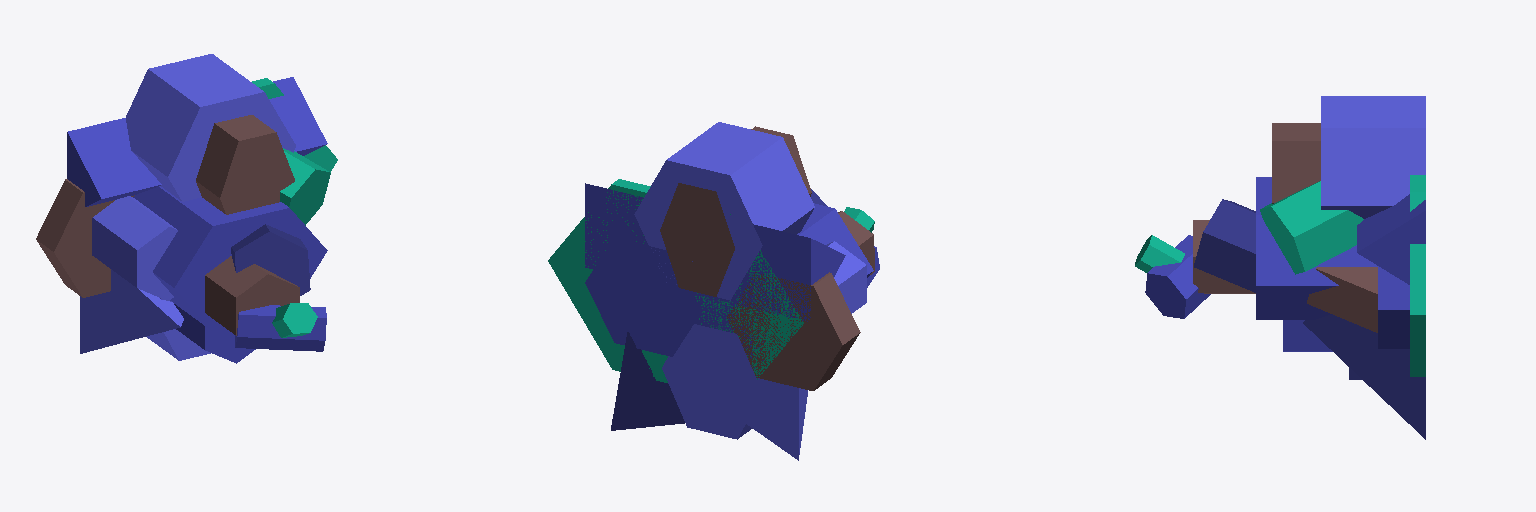
The model's file is casa-fosha.obj.
3 renders of one model, left to right at view 1: azimuth 30°, elevation 25°; view 2: azimuth 150°, elevation 25°; view 3: azimuth 270°, elevation 25°, orthographic.
Parts seen in each view (by area): view 1: Object.5, Object.4, Object.15, Object.6, Object.7, Object.2, Object.13, Object.9, Object.10, Object.17, Object.12, Object.8 (+3 smaller); view 2: Object.5, Object.3, Object.2, Object.15, Object.1, Object.16, Object.6, Object.13, Object.14, Object.4, Object.7, Object.9; view 3: Object.5, Object.14, Object.4, Object.12, Object.10, Object.15, Object.6, Object.11, Object.17, Object.16, Object.3, Object.9 (+2 smaller).
Part boxes in pixels (bbox=[...]): Object.5: bbox=[126, 54, 295, 201]; Object.4: bbox=[133, 186, 327, 331]; Object.15: bbox=[67, 77, 327, 206]; Object.6: bbox=[196, 115, 294, 214]; Object.7: bbox=[92, 196, 177, 300]; Object.2: bbox=[36, 179, 134, 297]; Object.13: bbox=[80, 269, 183, 353]; Object.9: bbox=[205, 256, 299, 335]; Object.10: bbox=[231, 224, 310, 295]; Object.17: bbox=[235, 305, 326, 351]; Object.12: bbox=[280, 148, 330, 225]; Object.8: bbox=[174, 304, 255, 363]; Object.5: bbox=[634, 122, 814, 300]; Object.3: bbox=[585, 238, 701, 356]; Object.2: bbox=[727, 272, 860, 390]; Object.15: bbox=[585, 183, 845, 321]; Object.1: bbox=[662, 324, 762, 439]; Object.16: bbox=[548, 179, 803, 382]; Object.6: bbox=[660, 126, 811, 296]; Object.13: bbox=[670, 363, 807, 460]; Object.14: bbox=[611, 332, 684, 430]; Object.4: bbox=[693, 203, 873, 368]; Object.7: bbox=[826, 241, 866, 313]; Object.9: bbox=[838, 211, 874, 274]; Object.5: bbox=[1321, 96, 1425, 218]; Object.14: bbox=[1303, 314, 1425, 439]; Object.4: bbox=[1256, 177, 1377, 319]; Object.12: bbox=[1260, 181, 1363, 274]; Object.10: bbox=[1194, 199, 1255, 292]; Object.15: bbox=[1357, 194, 1425, 284]; Object.6: bbox=[1272, 123, 1320, 203]; Object.11: bbox=[1307, 267, 1377, 332]; Object.17: bbox=[1145, 235, 1210, 318]; Object.16: bbox=[1410, 175, 1425, 376]; Object.3: bbox=[1378, 266, 1409, 348]; Object.9: bbox=[1193, 220, 1255, 293].
Bounding box in the file's own units: 146 × 135 × 125.